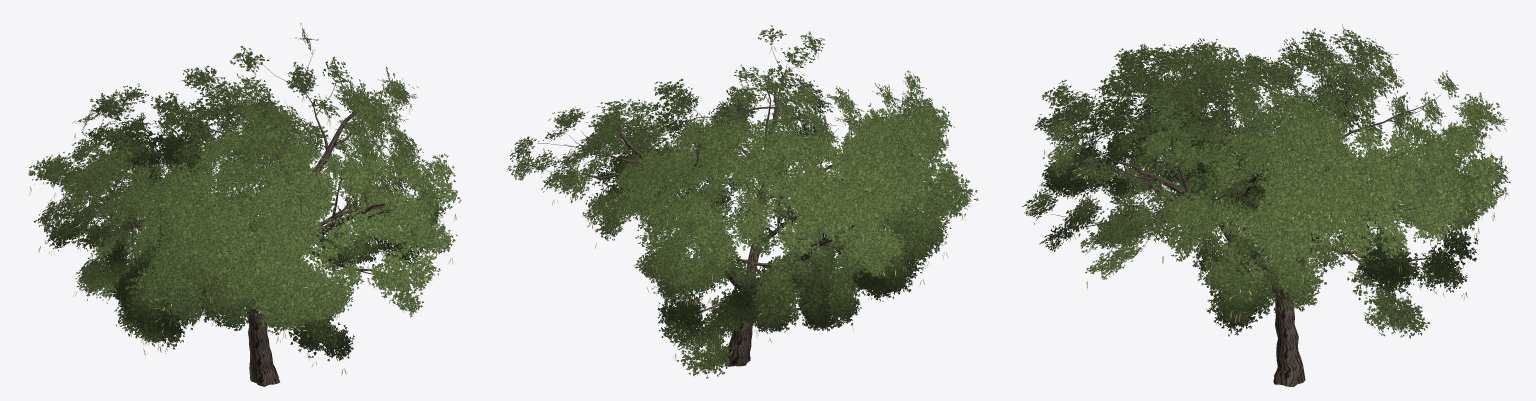
Rendered from adult-b.lod0.glb.
3 views of the same model, side by side, from view 1: azimuth 30°, elevation 25°; view 2: azimuth 150°, elevation 25°; view 3: azimuth 270°, elevation 25° (orthographic). The views are drawn at different scales.
Parts seen in each view (by area): view 1: foliage, bark, fruit; view 2: foliage, bark, fruit; view 3: foliage, bark, fruit.
Boxes of the visible parts, bbox=[...] form: foliage: bbox=[28, 23, 461, 361]; bark: bbox=[66, 49, 431, 386]; fruit: bbox=[29, 95, 456, 375]; foliage: bbox=[508, 25, 978, 378]; bark: bbox=[534, 45, 946, 366]; fruit: bbox=[506, 46, 965, 360]; foliage: bbox=[1022, 24, 1510, 338]; bark: bbox=[1051, 48, 1477, 386]; fruit: bbox=[1043, 70, 1509, 325].
Size of the model in its own units: 11.41 by 7.5 by 11.87.
Materials: 5 (2 with a texture image).
